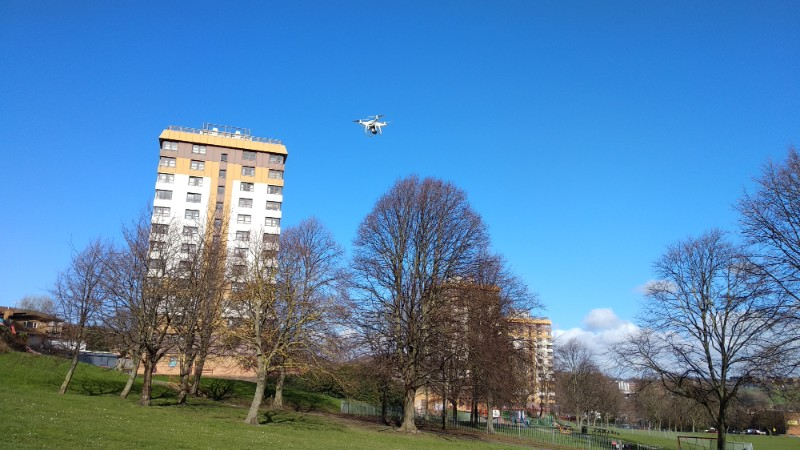drone: (351, 112, 392, 138)
